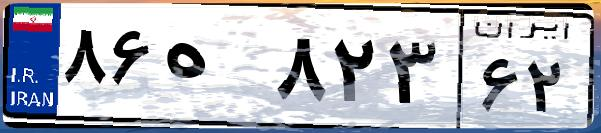2: (330, 28, 385, 110), (525, 38, 570, 115)
3: (385, 28, 445, 110)
6: (475, 38, 525, 113), (110, 28, 158, 98)
8: (270, 28, 330, 110), (57, 26, 110, 100)
ه: (158, 20, 270, 120)
